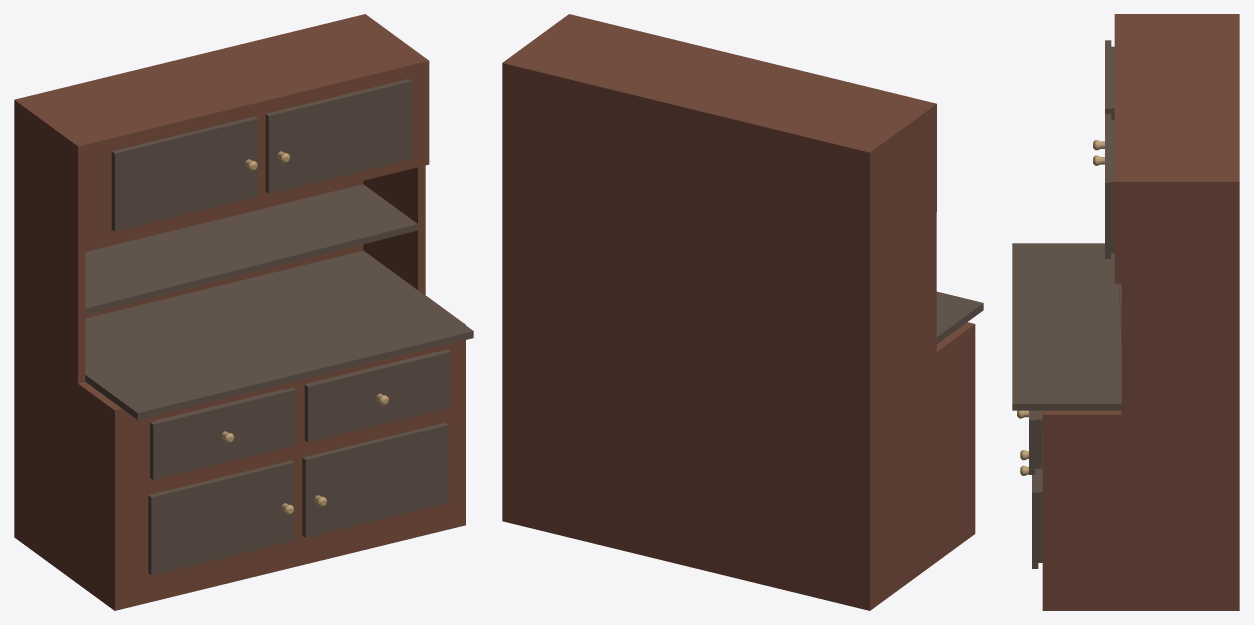
Rendered from ArmarioCozinha.fbx.
3 renders of one model, left to right at view 1: azimuth 30°, elevation 25°; view 2: azimuth 150°, elevation 25°; view 3: azimuth 270°, elevation 25°, orthographic. The views are drawn at different scales.
Parts seen in each view (by area): view 1: Cube, Cube.006, Cube.003, Cube.002, Cube.005, Cube.004, Cube.001; view 2: Cube; view 3: Cube, Cube.005, Cube.003, Cube.004, Cube.006.
Boxes of the visible parts, x1=… form: Cube: x1=14, y1=14, x2=473, y2=610; Cube.006: x1=111, y1=116, x2=258, y2=231; Cube.003: x1=302, y1=422, x2=448, y2=537; Cube.002: x1=148, y1=460, x2=294, y2=575; Cube.005: x1=265, y1=79, x2=411, y2=193; Cube.004: x1=304, y1=349, x2=450, y2=442; Cube.001: x1=150, y1=387, x2=296, y2=479; Cube: x1=502, y1=14, x2=983, y2=610; Cube: x1=1012, y1=14, x2=1239, y2=610; Cube.005: x1=1105, y1=114, x2=1114, y2=258; Cube.003: x1=1032, y1=431, x2=1042, y2=568; Cube.004: x1=1029, y1=410, x2=1042, y2=474; Cube.006: x1=1105, y1=40, x2=1114, y2=120.
Size of the model in its own units: 209 by 249 by 120.
